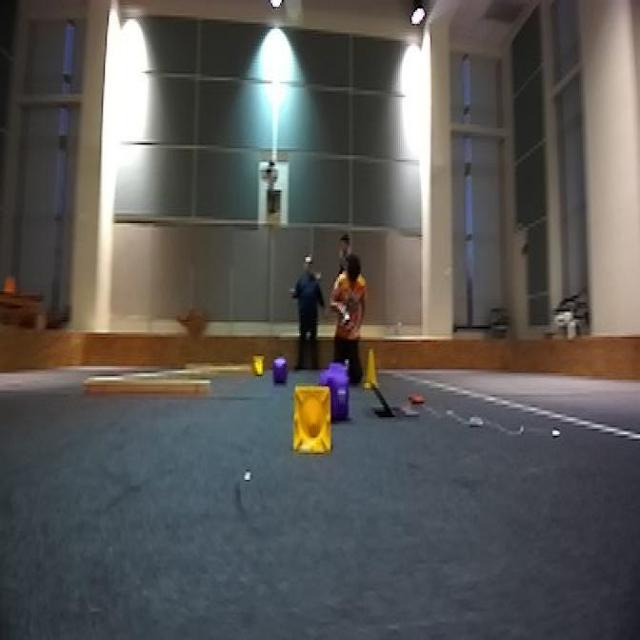frc_cone: (291, 382, 339, 462), (362, 349, 381, 388), (252, 351, 268, 378)
frc_cube: (327, 373, 352, 417), (270, 354, 290, 376)
